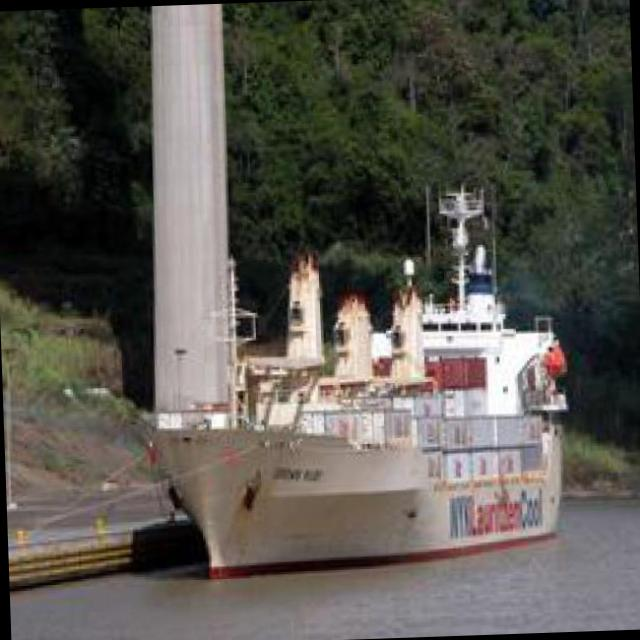boat: (147, 368, 618, 577)
